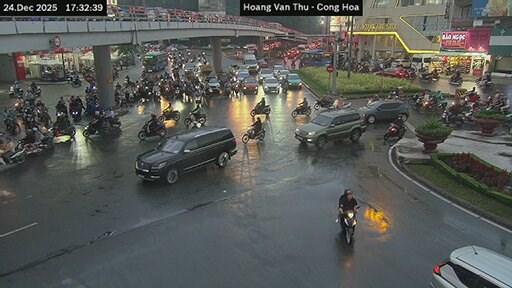motorbike: (16, 130, 53, 154), (82, 117, 120, 136), (339, 210, 355, 243), (137, 121, 166, 139), (3, 145, 25, 163), (384, 122, 406, 140), (441, 109, 464, 126), (3, 111, 19, 134), (242, 126, 263, 143), (419, 99, 441, 112), (157, 108, 179, 121), (37, 108, 51, 126), (49, 125, 74, 135), (249, 104, 269, 116), (291, 105, 310, 117), (409, 93, 422, 107), (474, 76, 492, 86), (313, 99, 332, 108), (9, 82, 22, 95), (26, 85, 41, 95), (70, 108, 80, 121), (505, 112, 511, 133), (195, 113, 205, 124), (448, 76, 460, 85), (184, 112, 192, 125), (419, 72, 432, 79), (281, 81, 288, 93), (70, 77, 80, 85), (432, 72, 438, 80)
